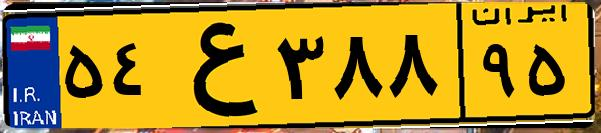3: (270, 28, 330, 110)
4: (110, 28, 158, 98)
5: (57, 26, 110, 100), (525, 38, 570, 115)
8: (385, 28, 445, 110), (330, 28, 385, 110)
9: (475, 38, 525, 113)
ع: (158, 12, 270, 120)
